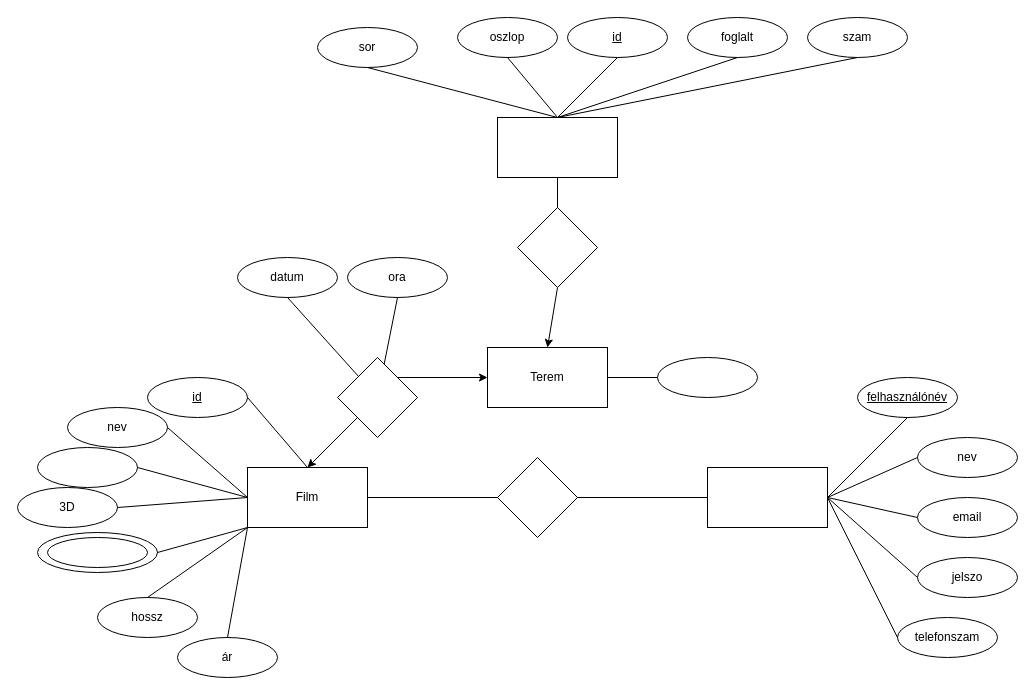
The diagram is 1035 pixels wide and 695 high, and some of its shapes have lost their labels. The shapes that lost their labels are listed below. From the top down, each one's box as (x1, y1, x2, y2) in pixels, then its label:
(496, 116, 618, 178): szek
(516, 206, 598, 288): tartalmaz
(336, 356, 418, 438): Vetítésre kerül
(656, 356, 758, 398): teremnev
(36, 446, 138, 488): leírás
(496, 456, 578, 538): Helyet foglal
(706, 466, 828, 528): Felhasználó
(46, 536, 148, 568): színészek
